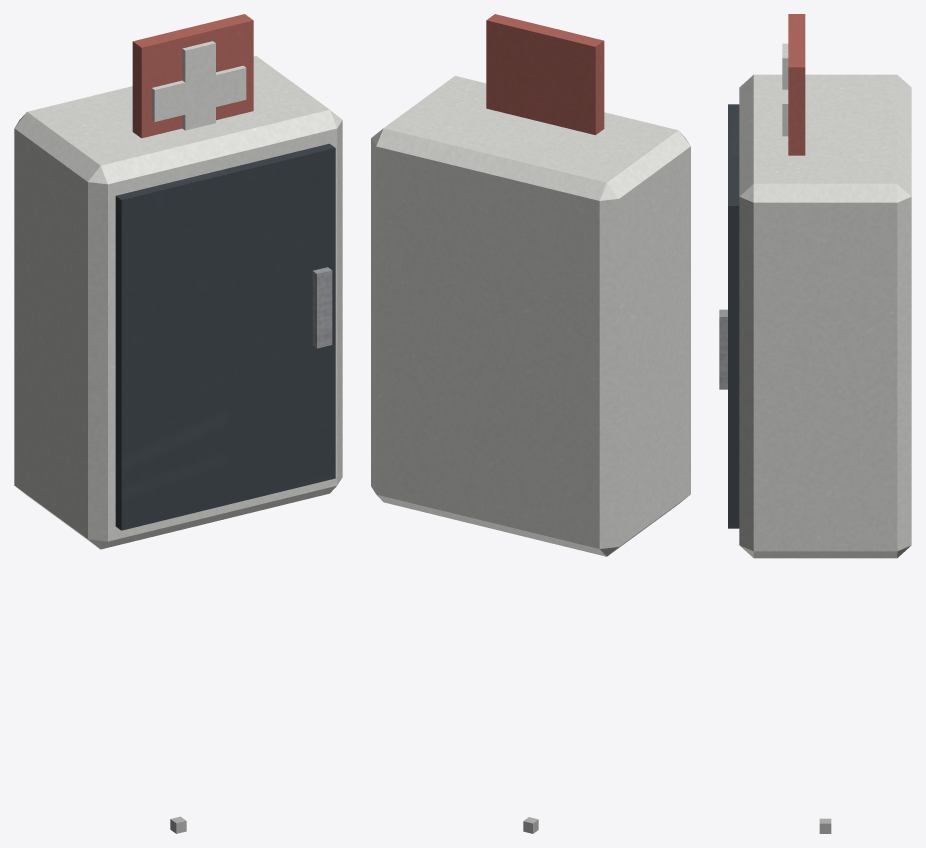
File: rv_furn_med_cabinet.gltf
3 views of the same model, side by side, from view 1: azimuth 30°, elevation 25°; view 2: azimuth 150°, elevation 25°; view 3: azimuth 270°, elevation 25° (orthographic). The views are drawn at different scales.
Parts seen in each view (by area): view 1: RV_Furn_MedCabinet; view 2: RV_Furn_MedCabinet; view 3: RV_Furn_MedCabinet.
Boxes of the visible parts, x1,y1,x2,y2 form: RV_Furn_MedCabinet: (14, 14, 342, 833); RV_Furn_MedCabinet: (371, 14, 690, 833); RV_Furn_MedCabinet: (719, 14, 911, 833).
Size of the model in its own units: 0.5 by 1.52 by 0.335.
8 materials, 7 textured.
